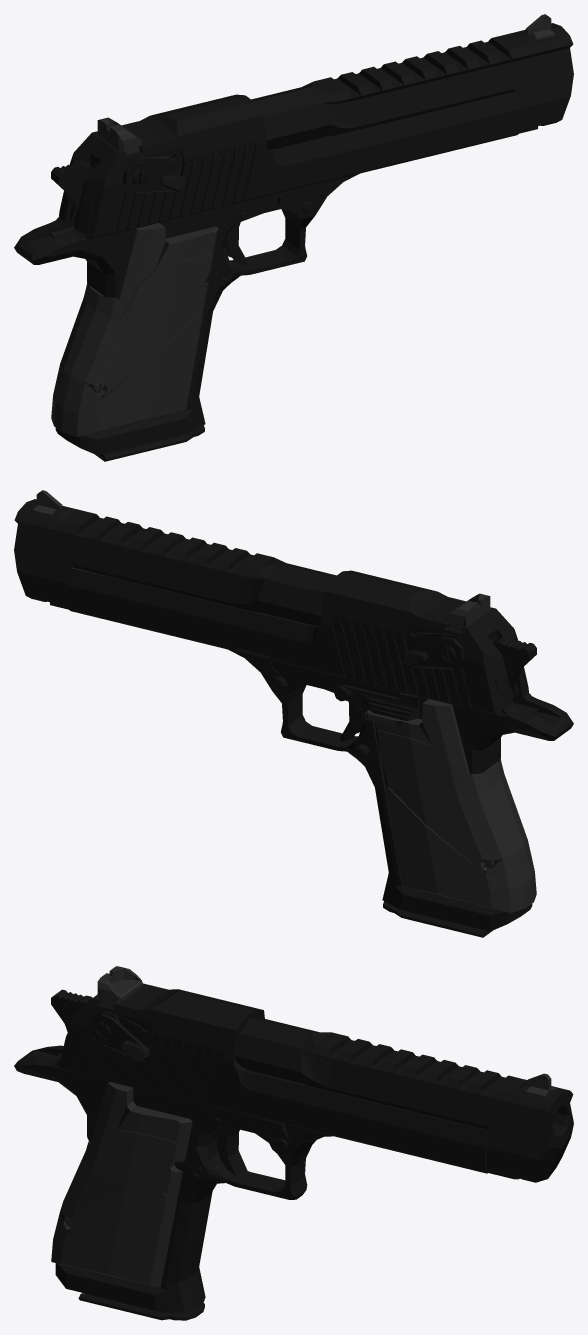
Rendered from desert eagle.fbx.
3 views of the same model, one above another, from view 1: azimuth 30°, elevation 25°; view 2: azimuth 150°, elevation 25°; view 3: azimuth 330°, elevation 25° (orthographic).
Visible parts, largest first — view 1: deagle frame; view 2: deagle frame; view 3: deagle frame.
Part boxes in pixels (x1,y1,x2,y2): deagle frame: (14,14,573,461); deagle frame: (14,490,573,937); deagle frame: (14,966,573,1320).
Size of the model in its own units: 273 by 158 by 38.29.
1 material, 1 textured.
